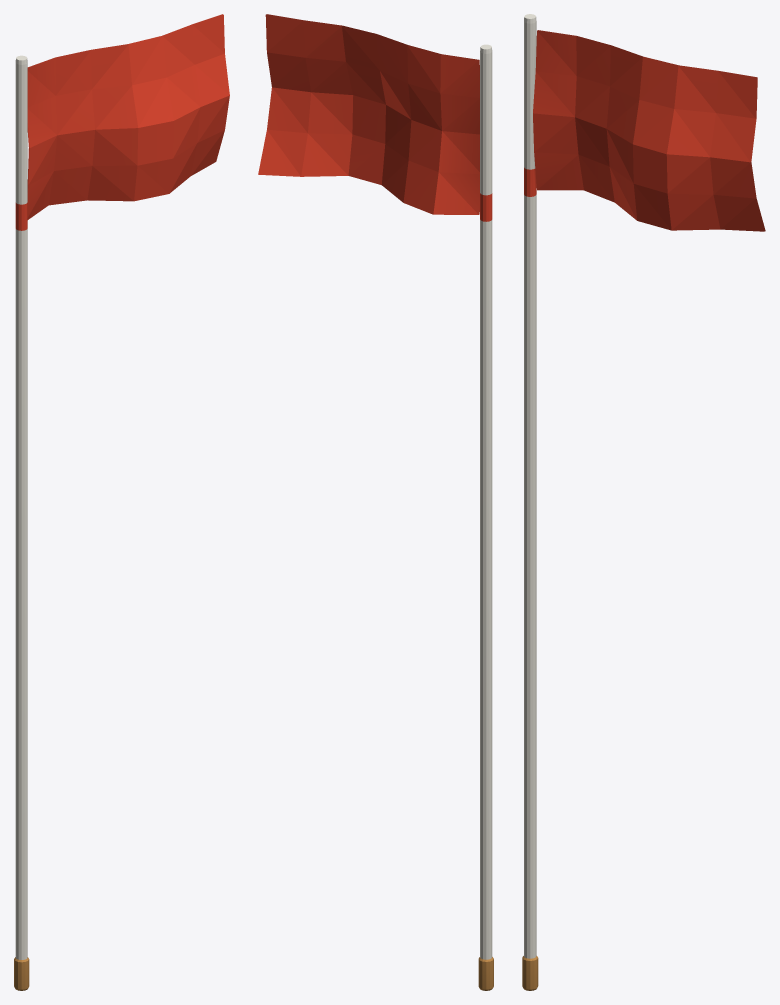
File: flagstick_red.glb
3 renders of one model, left to right at view 1: azimuth 30°, elevation 25°; view 2: azimuth 150°, elevation 25°; view 3: azimuth 330°, elevation 25°, orthographic. The views are drawn at different scales.
Visible parts, largest first — view 1: Flag, Pole; view 2: Flag, Pole; view 3: Flag, Pole.
Part boxes in pixels (x1,y1,x2,y2): Flag: [27, 14, 229, 219]; Pole: [14, 55, 29, 990]; Flag: [258, 14, 479, 214]; Pole: [478, 44, 493, 990]; Flag: [533, 30, 765, 231]; Pole: [522, 14, 538, 990].
Size of the model in its own units: 0.5183 by 2.13 by 0.1102.
Materials: 1 (1 with a texture image).
